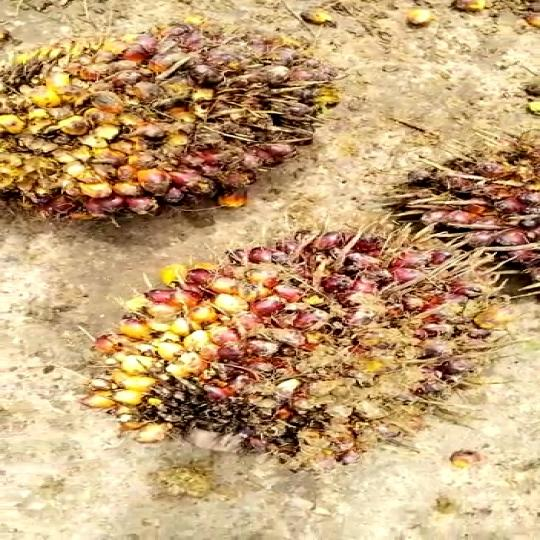masak: (75, 213, 498, 485), (0, 29, 368, 234)
